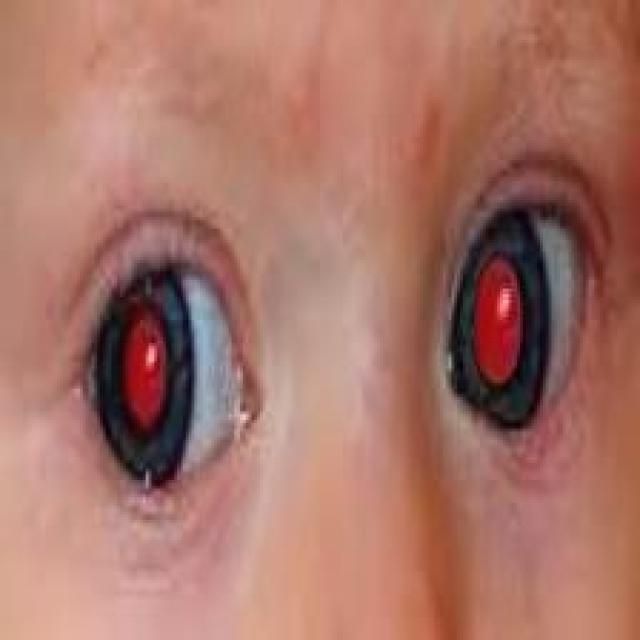reflexo-normal: (62, 250, 259, 507), (435, 213, 612, 435)
